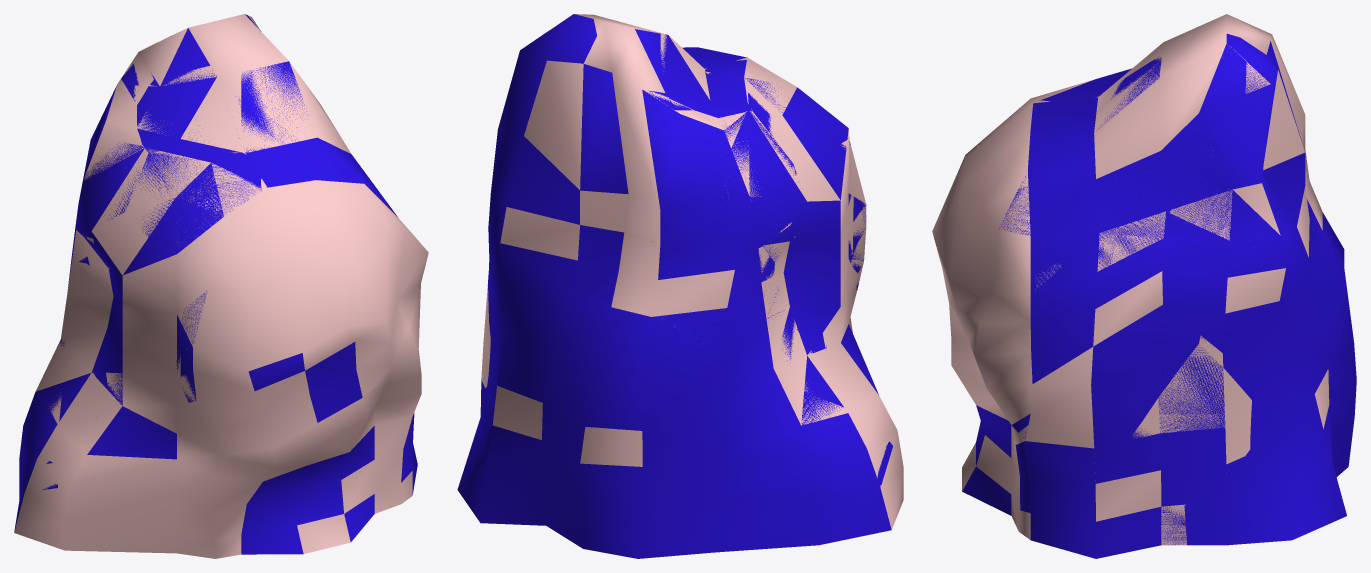
File: Broken-Rock-2.fbx
The picture shows the model from 3 angles, left to right: view 1: azimuth 30°, elevation 25°; view 2: azimuth 150°, elevation 25°; view 3: azimuth 270°, elevation 25°; orthographic projection. The views are drawn at different scales.
Parts seen in each view (by area): view 1: Big-Rock-2, Big-Rock-Broken-002_v_025, Big-Rock-Broken-002_v_046, Big-Rock-Broken-002_v_017, Big-Rock-Broken-002_v_008, Big-Rock-Broken-002_v_031, Big-Rock-Broken-002_v_052, Big-Rock-Broken-002_v_029, Big-Rock-Broken-002_v_032, Big-Rock-Broken-002_v_024, Big-Rock-Broken-002_v_053, Big-Rock-Broken-002_v_002 (+18 smaller); view 2: Big-Rock-2, Big-Rock-Broken-002_v_059, Big-Rock-Broken-002_v_022, Big-Rock-Broken-002_v_009, Big-Rock-Broken-002_v_005, Big-Rock-Broken-002_v_008, Big-Rock-Broken-002_v_010, Big-Rock-Broken-002_v_023, Big-Rock-Broken-002_v_056, Big-Rock-Broken-002_v_060, Big-Rock-Broken-002_v_002, Big-Rock-Broken-002_v_024 (+12 smaller); view 3: Big-Rock-2, Big-Rock-Broken-002_v_029, Big-Rock-Broken-002_v_040, Big-Rock-Broken-002_v_028, Big-Rock-Broken-002_v_058, Big-Rock-Broken-002_v_035, Big-Rock-Broken-002_v_041, Big-Rock-Broken-002_v_013, Big-Rock-Broken-002_v_044, Big-Rock-Broken-002_v_053, Big-Rock-Broken-002_v_059, Big-Rock-Broken-002_v_012 (+11 smaller).
Boxes of the visible parts, left/top/right/bottom form: Big-Rock-2: left=14, top=14, right=417, bottom=554; Big-Rock-Broken-002_v_025: left=218, top=222, right=342, bottom=382; Big-Rock-Broken-002_v_046: left=58, top=436, right=188, bottom=548; Big-Rock-Broken-002_v_017: left=180, top=261, right=283, bottom=428; Big-Rock-Broken-002_v_008: left=125, top=151, right=275, bottom=274; Big-Rock-Broken-002_v_031: left=210, top=374, right=361, bottom=476; Big-Rock-Broken-002_v_052: left=168, top=429, right=280, bottom=558; Big-Rock-Broken-002_v_029: left=241, top=14, right=345, bottom=154; Big-Rock-Broken-002_v_032: left=122, top=272, right=184, bottom=385; Big-Rock-Broken-002_v_024: left=137, top=14, right=244, bottom=153; Big-Rock-Broken-002_v_053: left=334, top=262, right=407, bottom=381; Big-Rock-Broken-002_v_002: left=89, top=368, right=209, bottom=451; Big-Rock-2: left=457, top=14, right=892, bottom=558; Big-Rock-Broken-002_v_059: left=524, top=60, right=641, bottom=235; Big-Rock-Broken-002_v_022: left=611, top=231, right=732, bottom=327; Big-Rock-Broken-002_v_009: left=593, top=19, right=693, bottom=122; Big-Rock-Broken-002_v_005: left=502, top=207, right=626, bottom=260; Big-Rock-Broken-002_v_008: left=704, top=60, right=849, bottom=163; Big-Rock-Broken-002_v_010: left=790, top=328, right=878, bottom=430; Big-Rock-Broken-002_v_023: left=727, top=246, right=796, bottom=384; Big-Rock-Broken-002_v_056: left=519, top=395, right=622, bottom=465; Big-Rock-Broken-002_v_060: left=634, top=133, right=660, bottom=252; Big-Rock-Broken-002_v_002: left=822, top=266, right=865, bottom=385; Big-Rock-Broken-002_v_024: left=575, top=14, right=752, bottom=136; Big-Rock-2: left=962, top=33, right=1356, bottom=558; Big-Rock-Broken-002_v_029: left=1094, top=43, right=1245, bottom=170; Big-Rock-Broken-002_v_040: left=1133, top=343, right=1251, bottom=505; Big-Rock-Broken-002_v_028: left=1024, top=285, right=1162, bottom=443; Big-Rock-Broken-002_v_058: left=950, top=319, right=1034, bottom=435; Big-Rock-Broken-002_v_035: left=1015, top=420, right=1186, bottom=545; Big-Rock-Broken-002_v_041: left=958, top=210, right=1022, bottom=347; Big-Rock-Broken-002_v_013: left=959, top=145, right=1030, bottom=268; Big-Rock-Broken-002_v_044: left=1152, top=183, right=1280, bottom=310; Big-Rock-Broken-002_v_053: left=934, top=191, right=982, bottom=326; Big-Rock-Broken-002_v_059: left=1245, top=51, right=1304, bottom=170; Big-Rock-Broken-002_v_012: left=1095, top=169, right=1170, bottom=285.
Bounding box in the file's own units: 937 × 1039 × 873.
